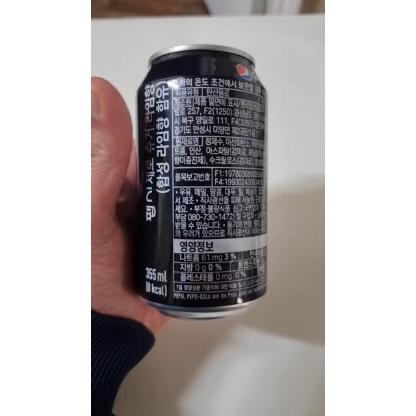Can: (136, 41, 266, 320)
